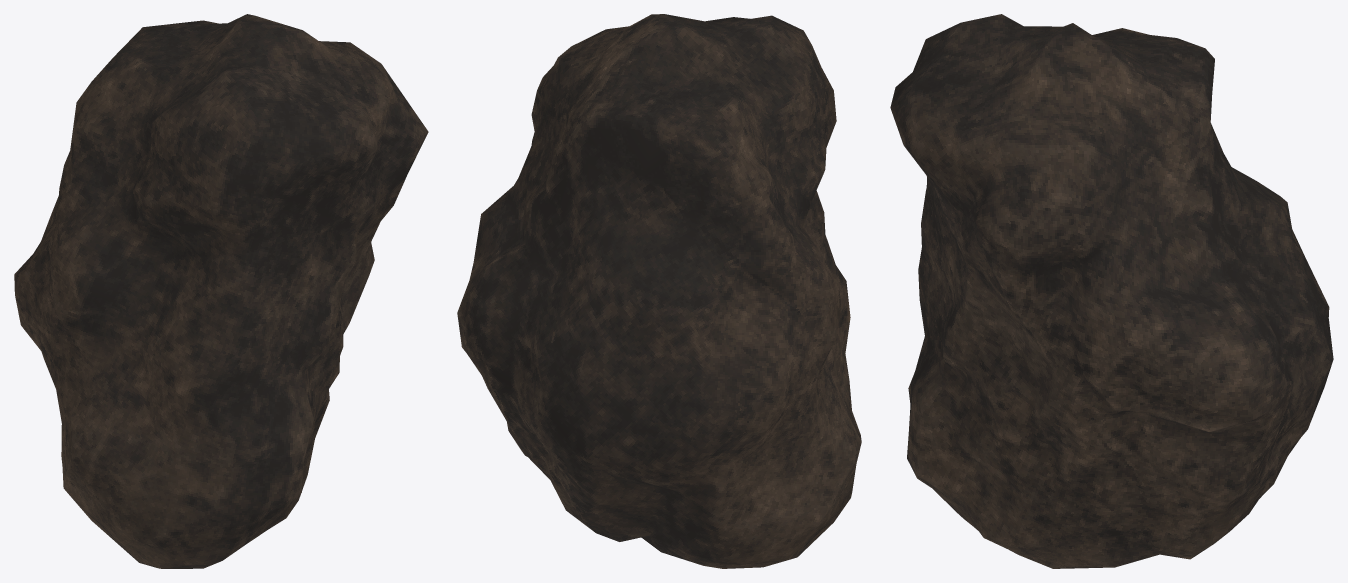
Rendered from SM_RP2_Rock_4m_8.002.glb.
3 renders of one model, left to right at view 1: azimuth 30°, elevation 25°; view 2: azimuth 150°, elevation 25°; view 3: azimuth 270°, elevation 25°, orthographic. The views are drawn at different scales.
Parts seen in each view (by area): view 1: SM_RP2_Rock_4m_8.002; view 2: SM_RP2_Rock_4m_8.002; view 3: SM_RP2_Rock_4m_8.002.
Boxes of the visible parts, x1,y1,x2,y2 form: SM_RP2_Rock_4m_8.002: (14, 14, 428, 568); SM_RP2_Rock_4m_8.002: (457, 14, 861, 568); SM_RP2_Rock_4m_8.002: (890, 14, 1333, 568).
Bounding box in the file's own units: 5.1 × 7.4 × 5.3.
1 material, 1 textured.
